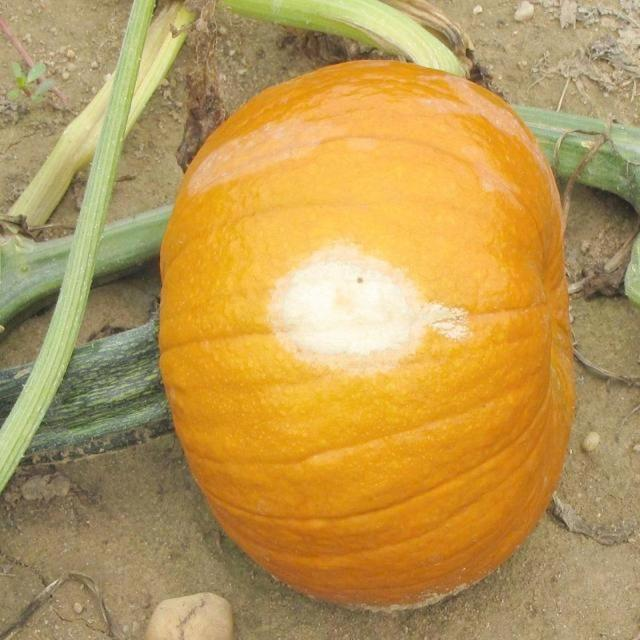Sunscald Fruit: (158, 160, 319, 245)
